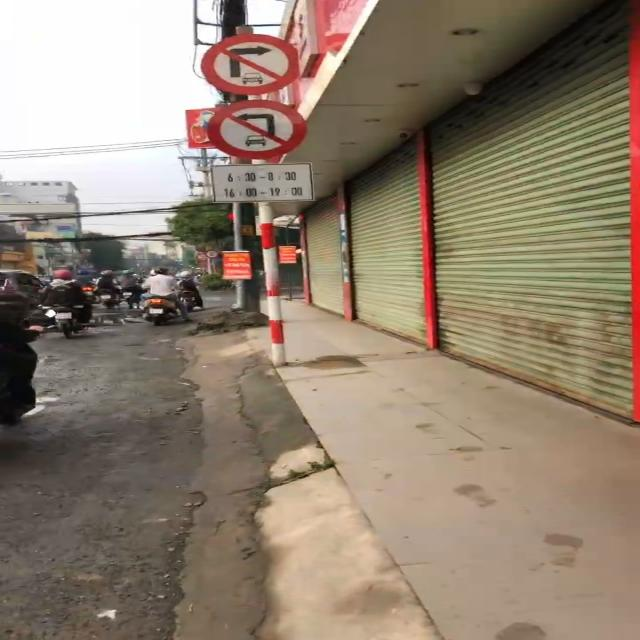Bien bao cam xe o to re phai: (193, 32, 301, 96)
Bien bao cam xe o to re trai: (201, 99, 310, 157)
